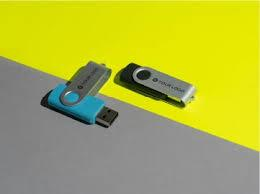Flash-drive: (35, 35, 218, 157)
